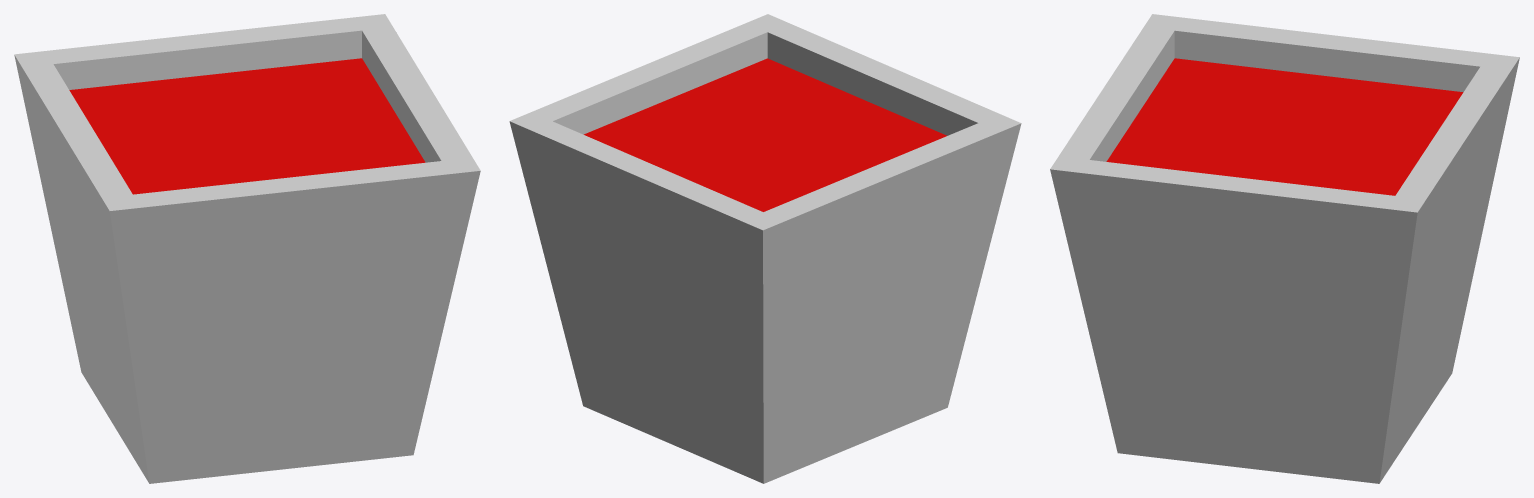
Rendered from Sauce.fbx.
3 renders of one model, left to right at view 1: azimuth 30°, elevation 25°; view 2: azimuth 150°, elevation 25°; view 3: azimuth 270°, elevation 25°, orthographic. The views are drawn at different scales.
Parts seen in each view (by area): view 1: Cube.006; view 2: Cube.006; view 3: Cube.006.
Boxes of the visible parts, box(x1,y1,x2,y2) form: Cube.006: box(14, 14, 480, 483); Cube.006: box(509, 14, 1021, 483); Cube.006: box(1050, 14, 1519, 483).
Bounding box in the file's own units: 22.02 × 15.51 × 22.02.
